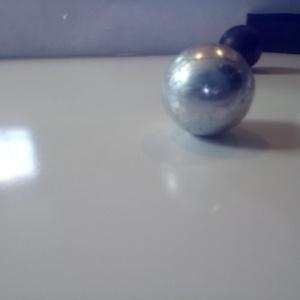zone: (245, 12, 300, 55)
